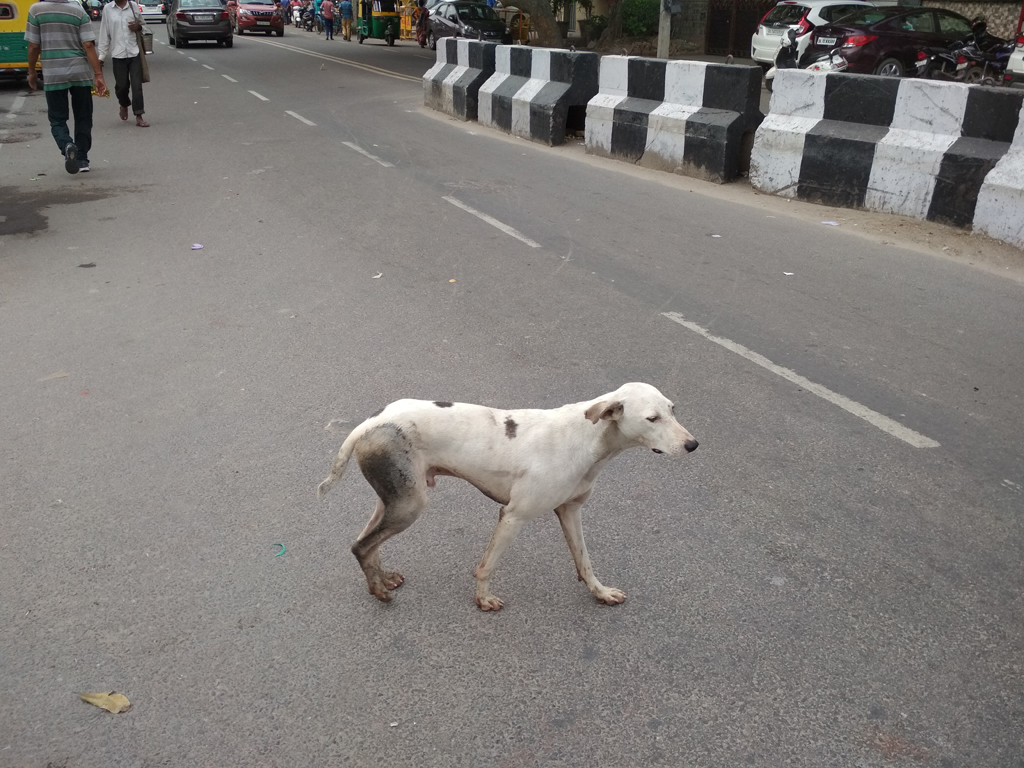dog: (318, 383, 702, 612)
